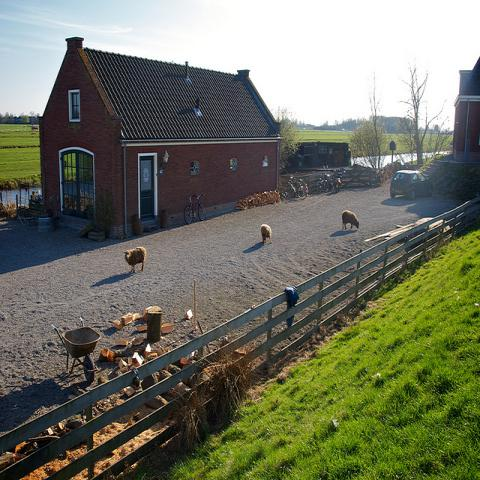car: (389, 170, 433, 200)
